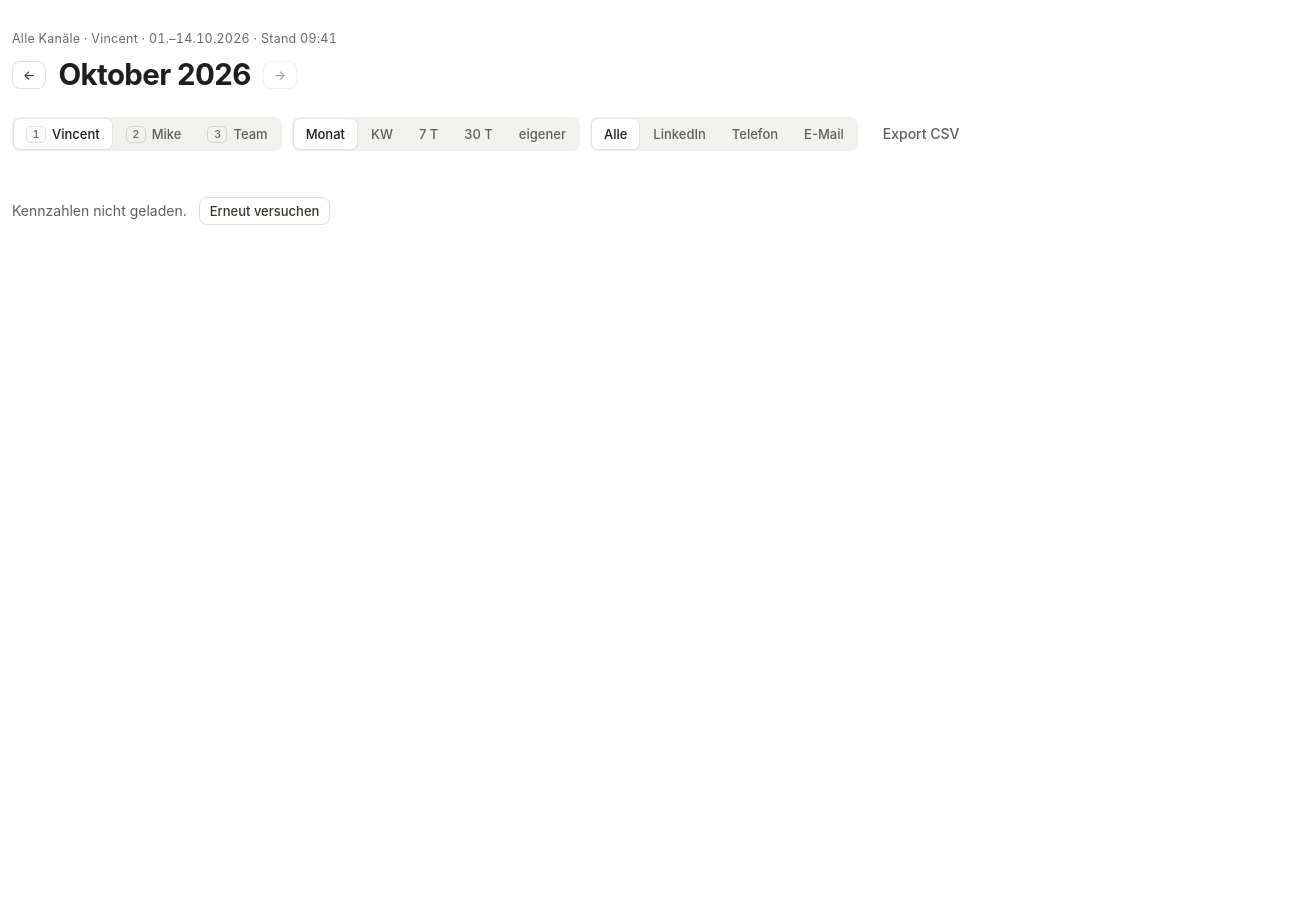
KpisSeite › Fehler → „Erneut versuchen“ → Daten erscheinen
This screenshot has width=1304, height=899.
Expected: the message "Kennzahlen nicht geladen. Erneut versuchen" is shown, top-left (12, 197), bottom-right (330, 225)
Click the button "Erneut versuchen": (265, 211) top-left (199, 197), bottom-right (330, 225)
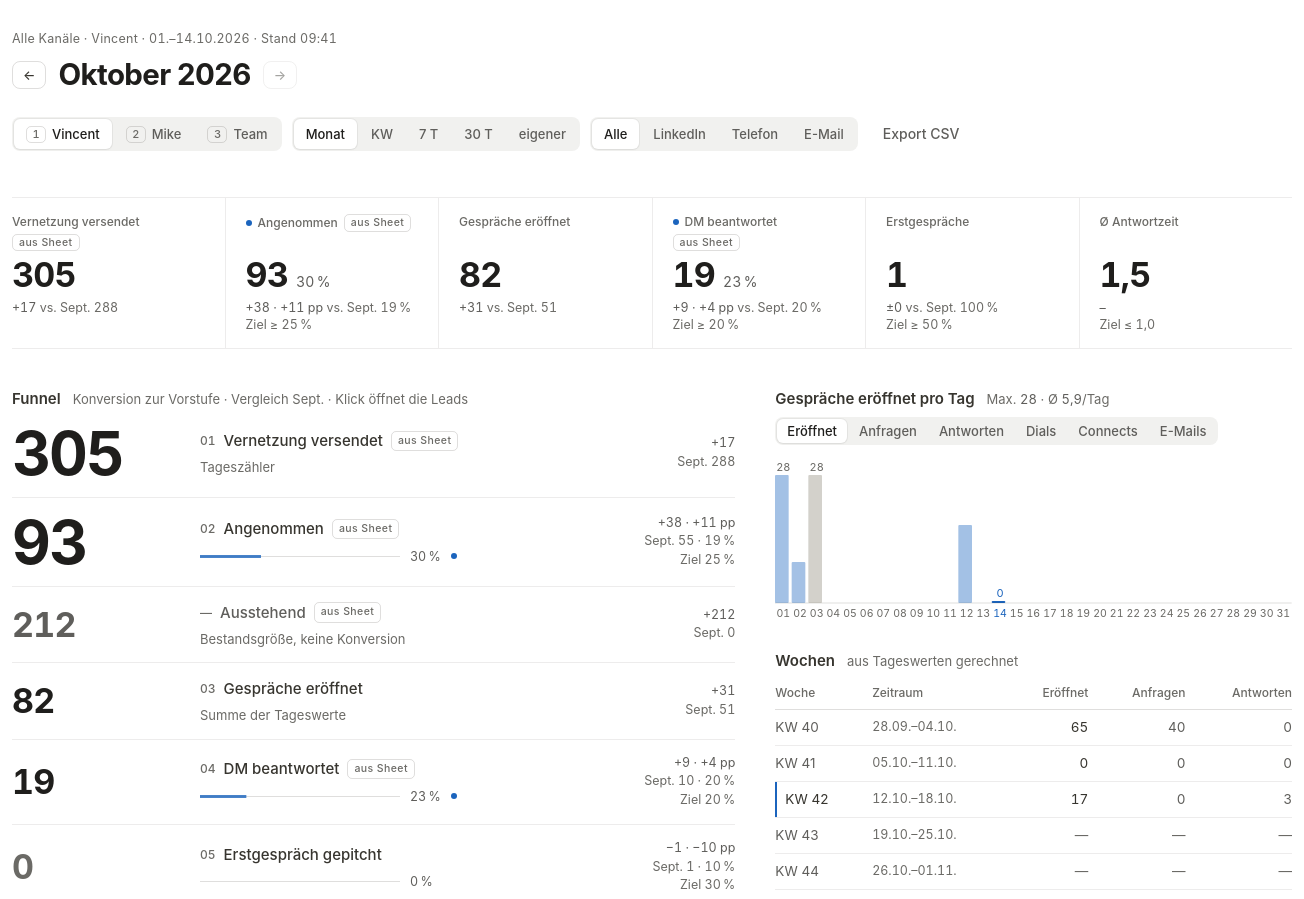
Now the list named "Kennzahlen LinkedIn" is shown, box top-left (12, 198), bottom-right (1292, 348)
